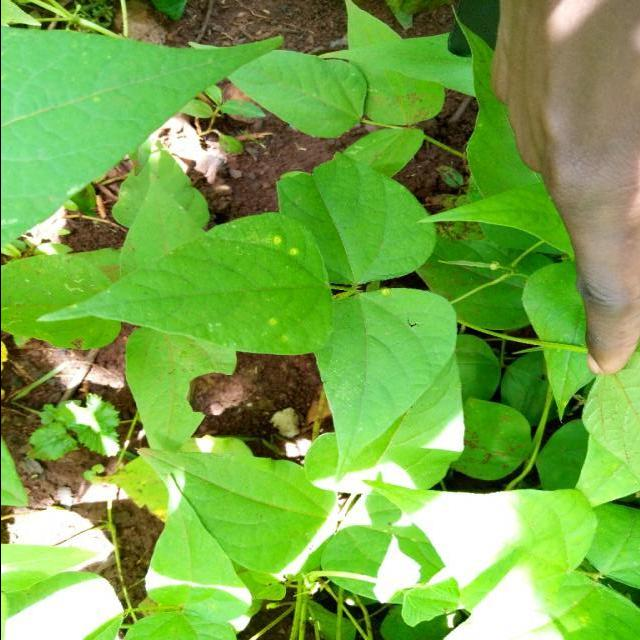embun tepung: (4, 0, 498, 504)
